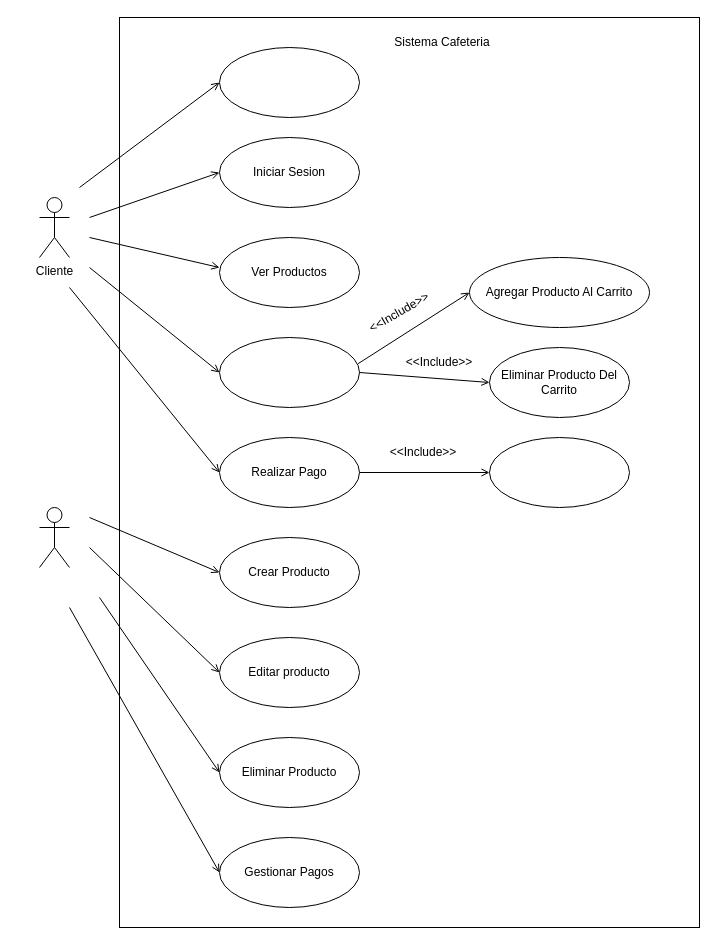
Some shapes in this 717 by 945 pixel diagram are drawn without their labels. The centre of each missing label's shape, as x and y in pixels:
"Administrador" goes at pixel 54 537.
"Gestionar Carrito" goes at pixel 289 372.
"Procesar Pago" goes at pixel 559 472.
"Registrarse" goes at pixel 289 82.
